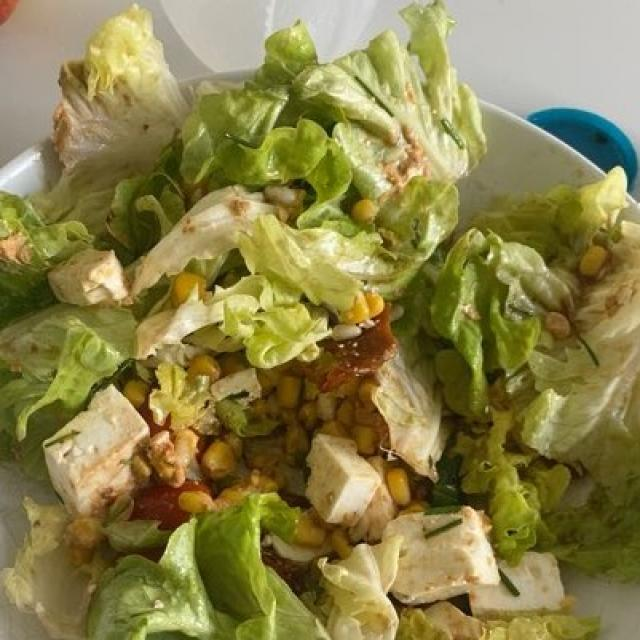feta: (17, 246, 561, 620)
salad-leaf-salad-green: (3, 0, 629, 638)
sun-dried-tomatoe: (141, 471, 221, 527)
sweet-corn-canned: (153, 298, 427, 524)
